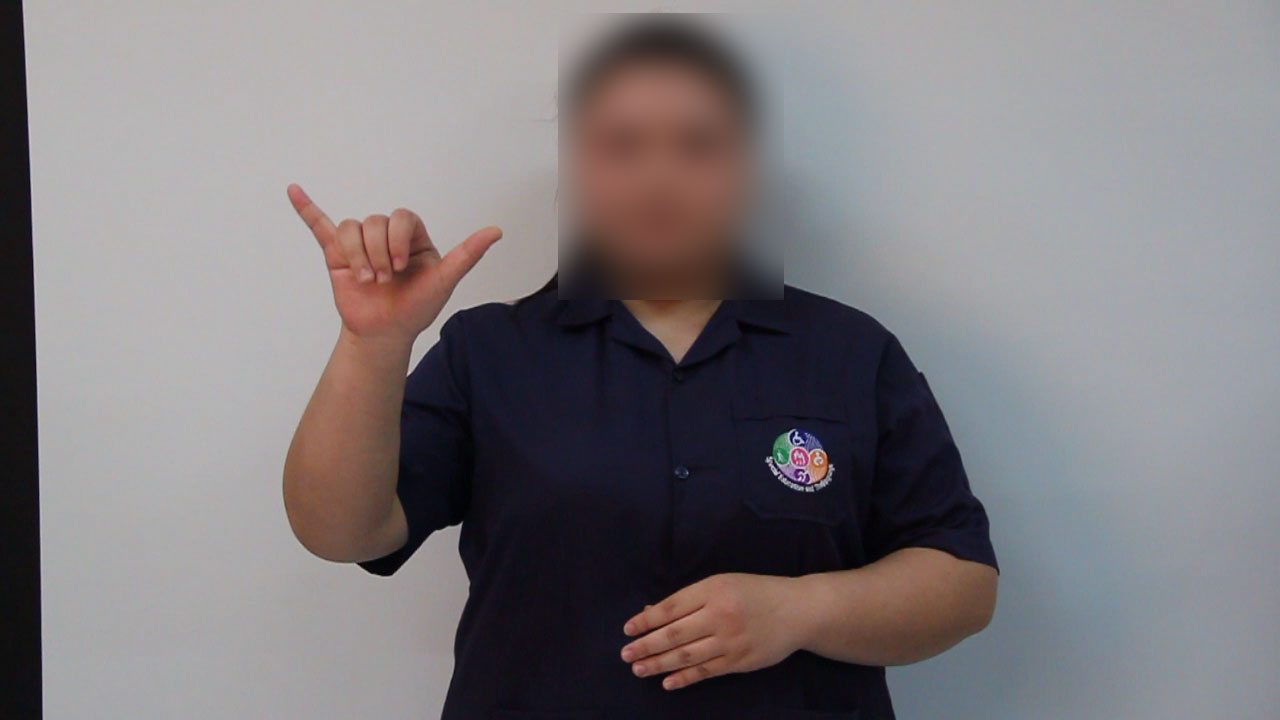yor: (275, 163, 514, 369)
